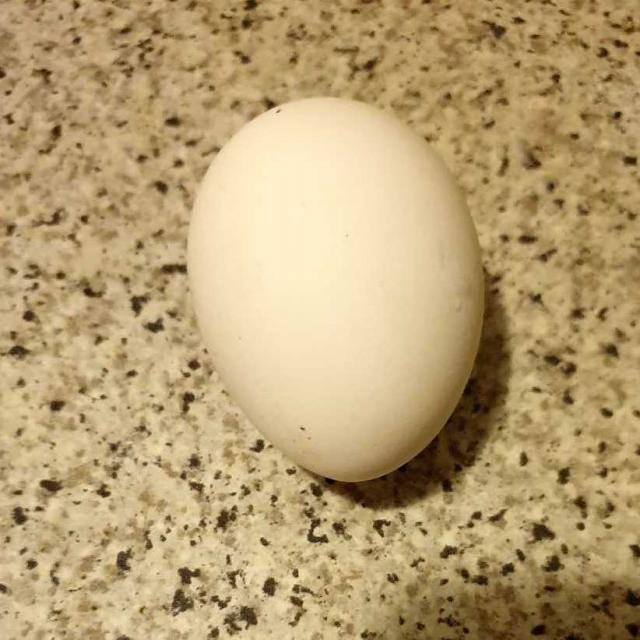egg: (188, 104, 489, 487)
